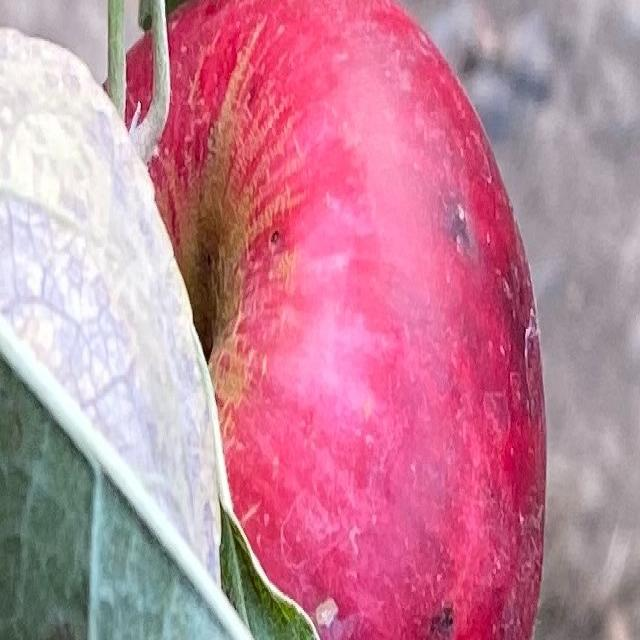100-_ripeness: (102, 0, 548, 640)
